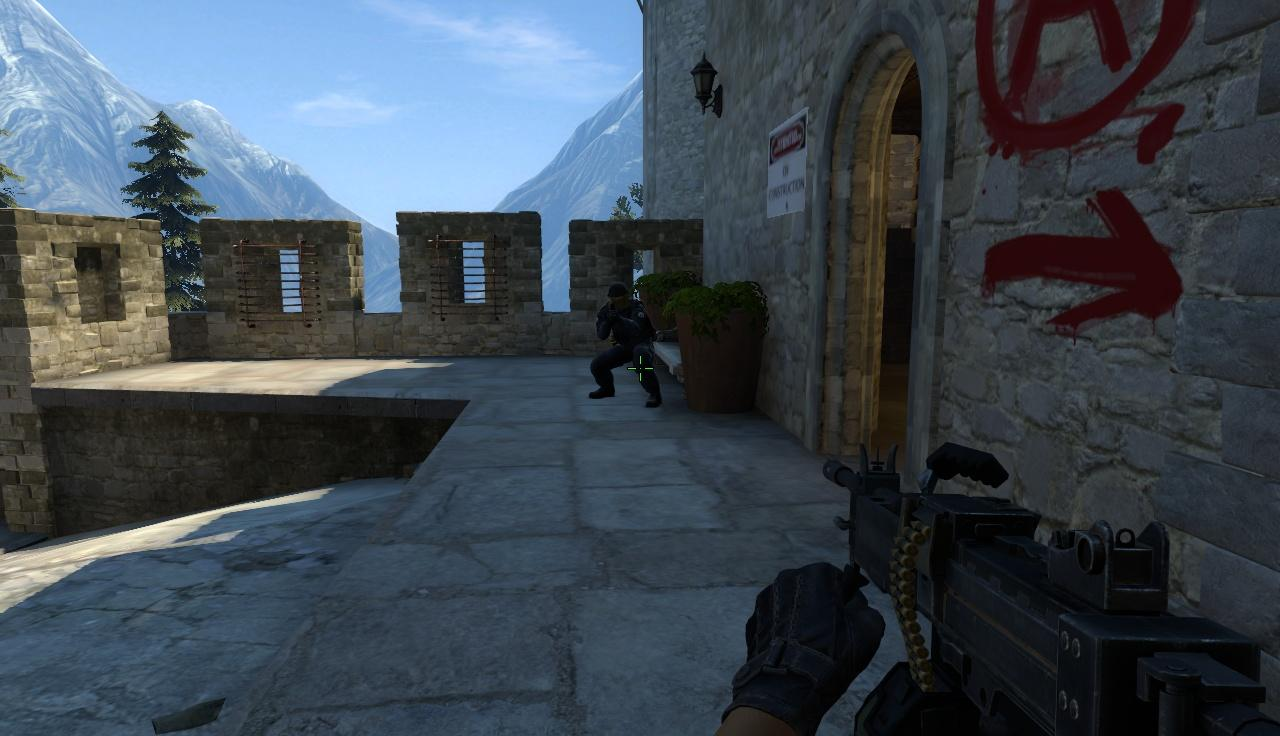ct: (597, 284, 655, 408)
cthead: (609, 284, 630, 308)
rifle: (818, 441, 1280, 736)
